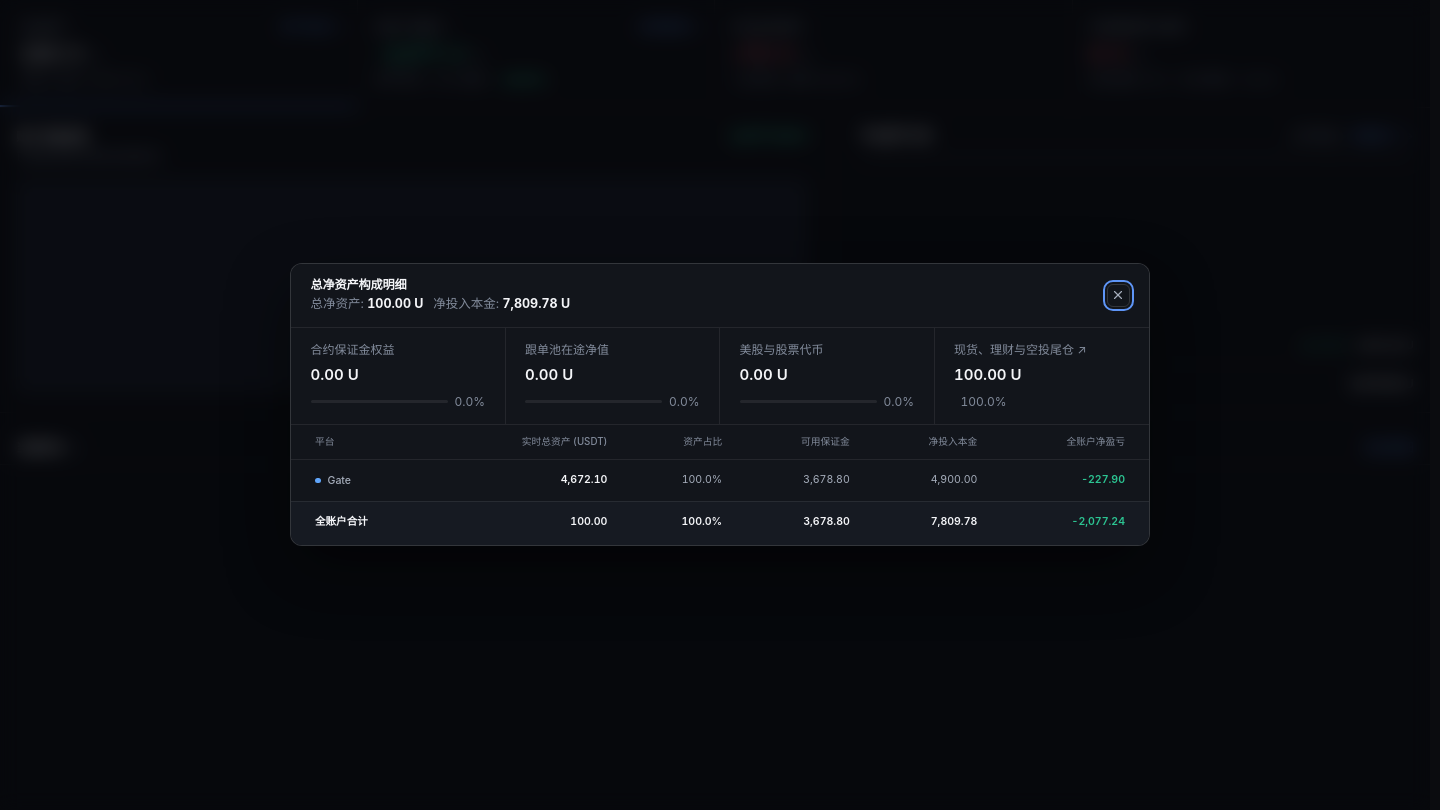
Scenario: opens itemized wallets from the equity allocation even when current holdings are empty
Earlier steps of the test are not shown.
Later steps or results of the test are not shown.
Click the button "现货、理财与空投尾仓 ↗ 100.00 U 100.0%". click: (1042, 376)
box: [934,328,1149,424]
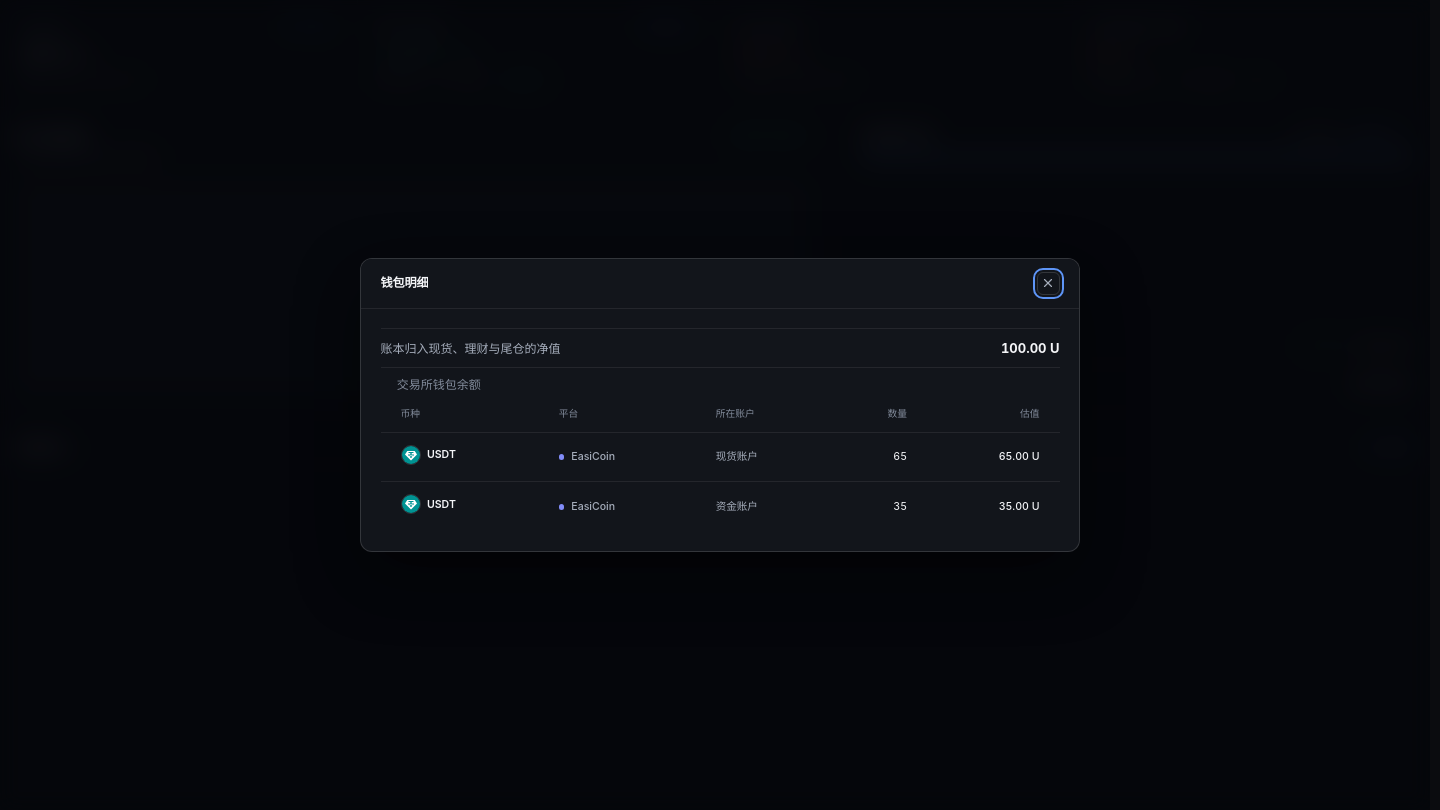
Expected: the text "USDT" is shown 2 times, [427,447,456,463]; [427,497,456,512]
Expected: the text "现货账户" is shown, [700,432,832,482]
Expected: the text "资金账户" is shown, [700,482,832,531]
